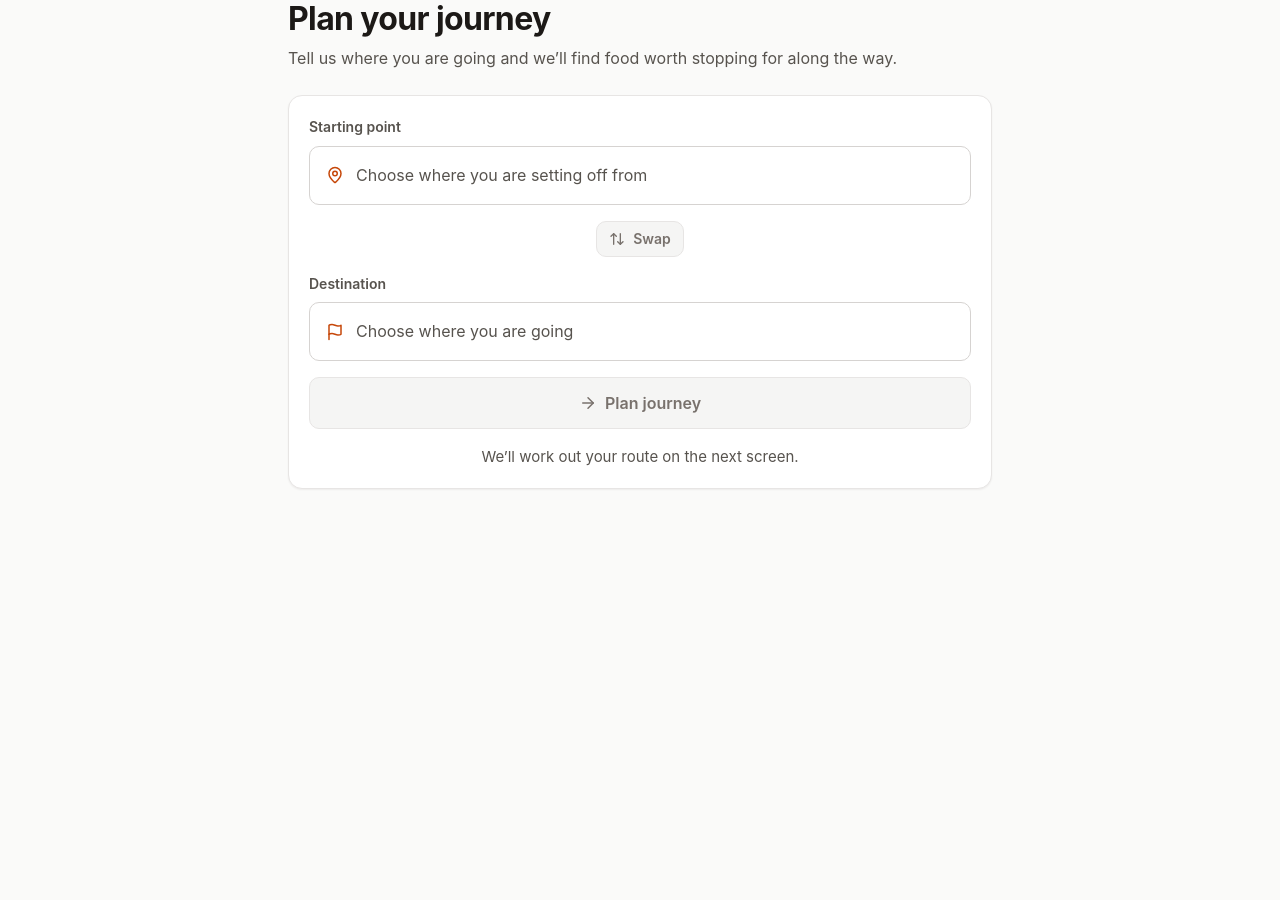
TripPlannerScreen › shows the server's message for a code it recognises
Click the button with aria-label "Starting point" at (640, 175), box [309, 146, 971, 205]
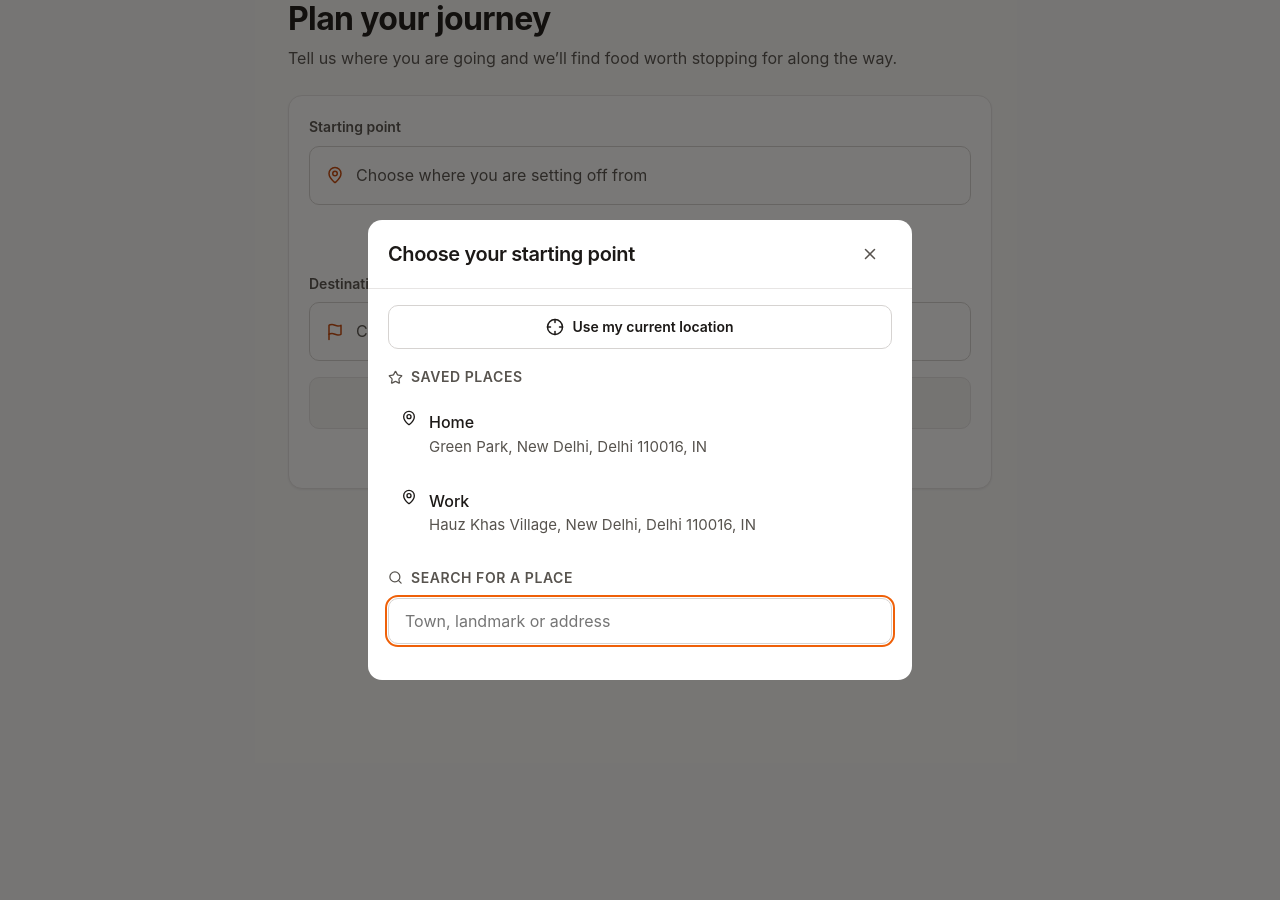
Click the button "Home Green Park, New Delhi, Delhi 110016, IN" at (640, 434), box [388, 398, 892, 472]
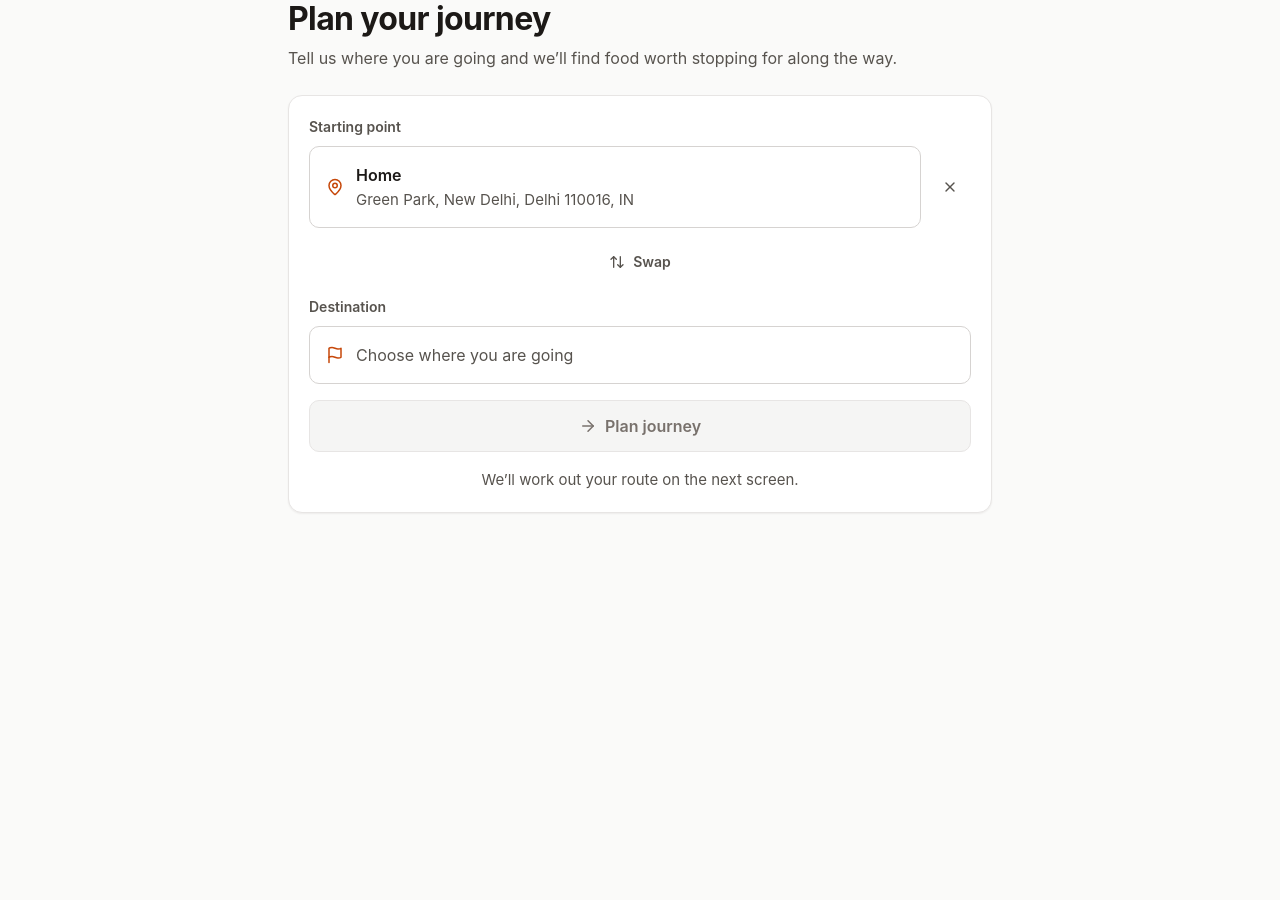
Click the button with aria-label "Destination" at (465, 355), box [309, 326, 971, 384]
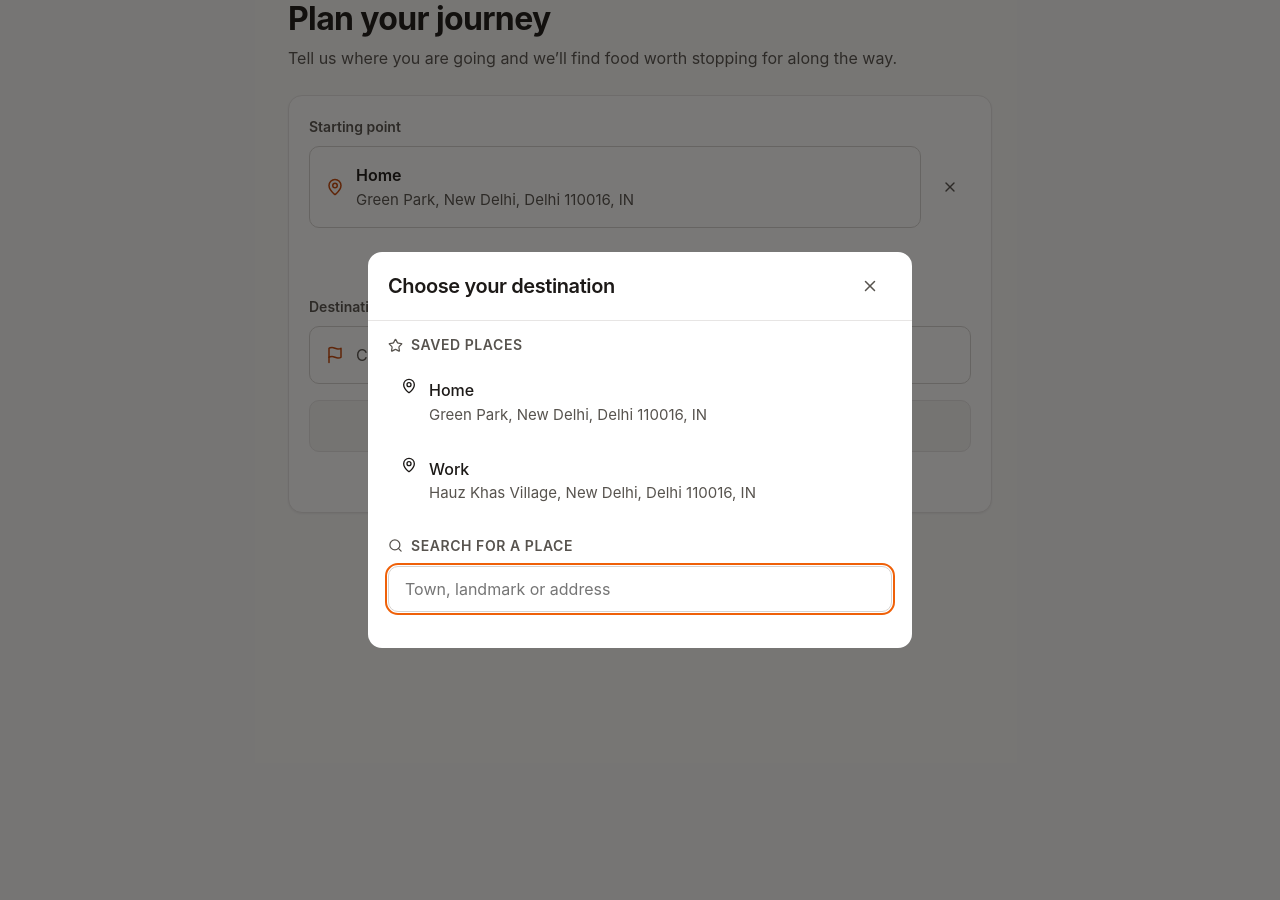
Type "taj" into the dropdown named "Search for a place" at (640, 589), box [388, 566, 892, 612]
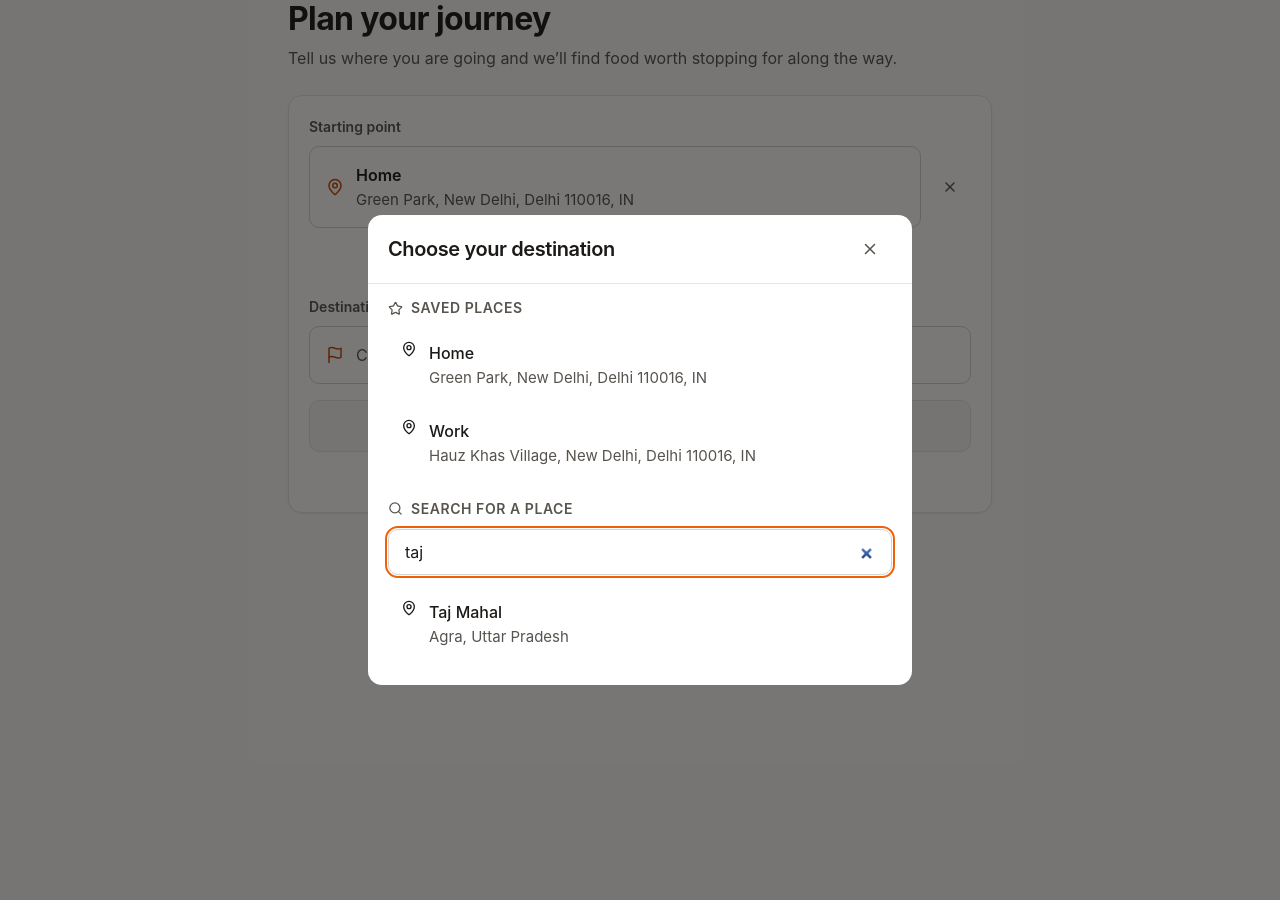
Click the option "Taj Mahal Agra, Uttar Pradesh" at (466, 612), box [388, 587, 892, 661]
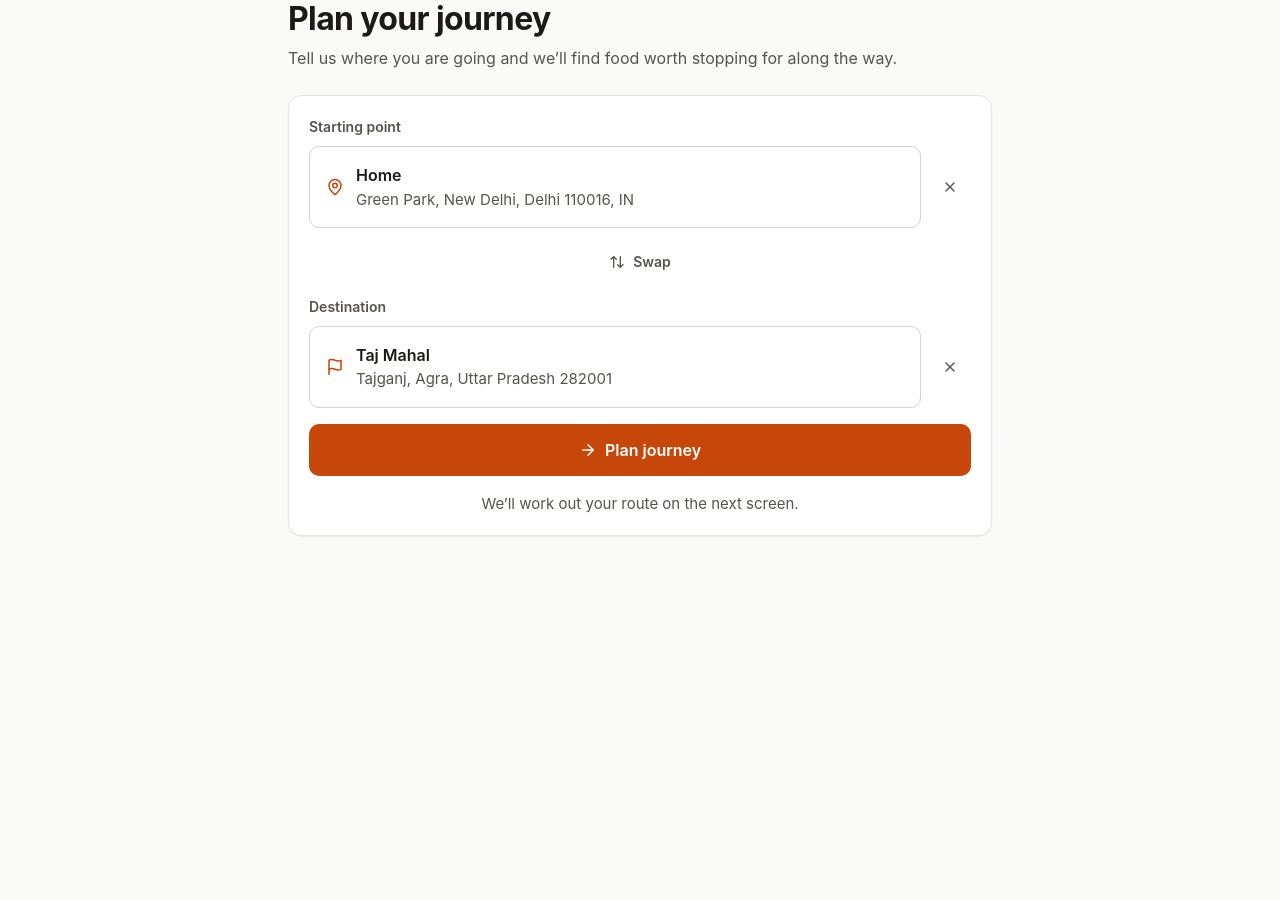
Click the button "Plan journey" at (640, 450), box [309, 424, 971, 476]
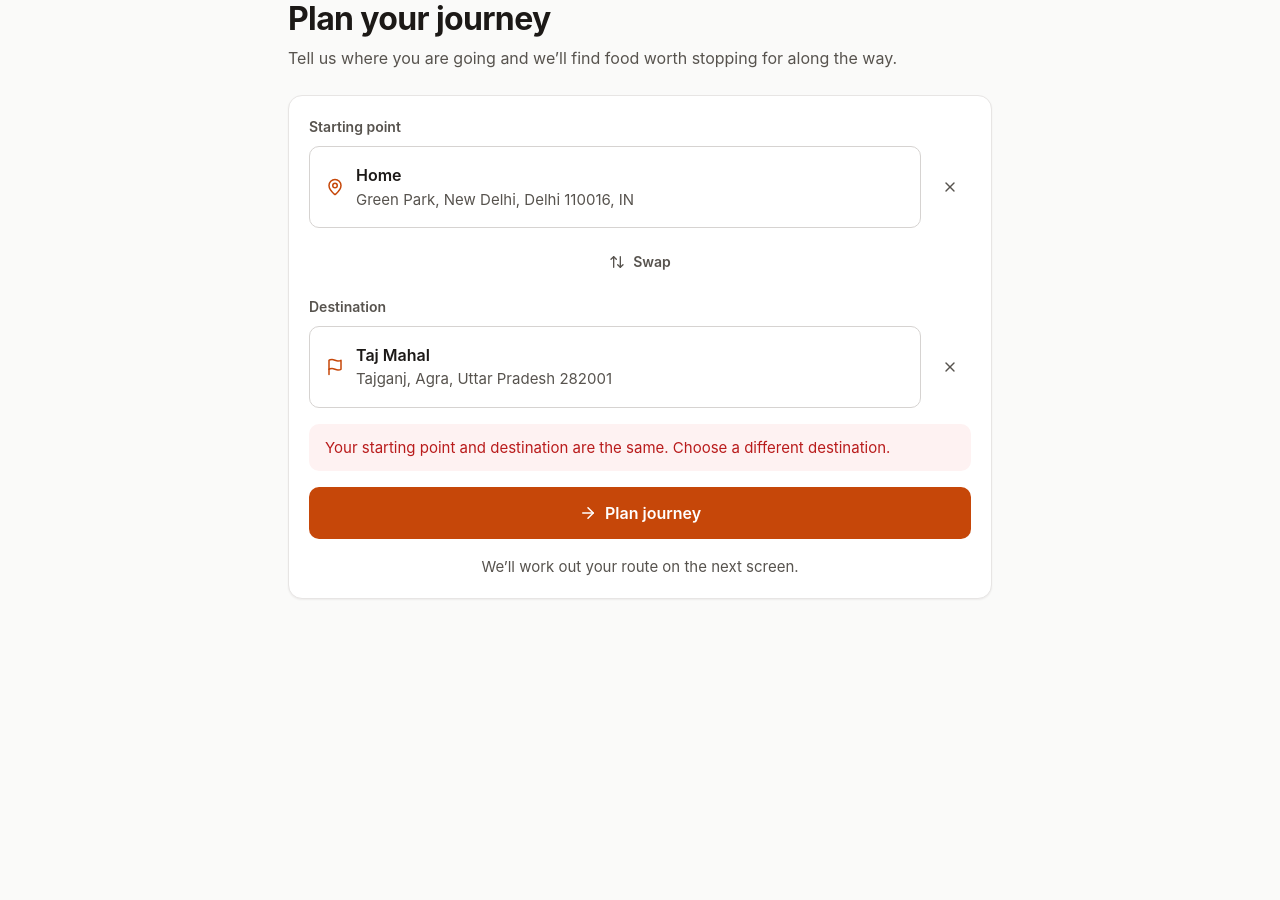
Check: the message shows "starting point and destination are the same", box [325, 438, 890, 457]
